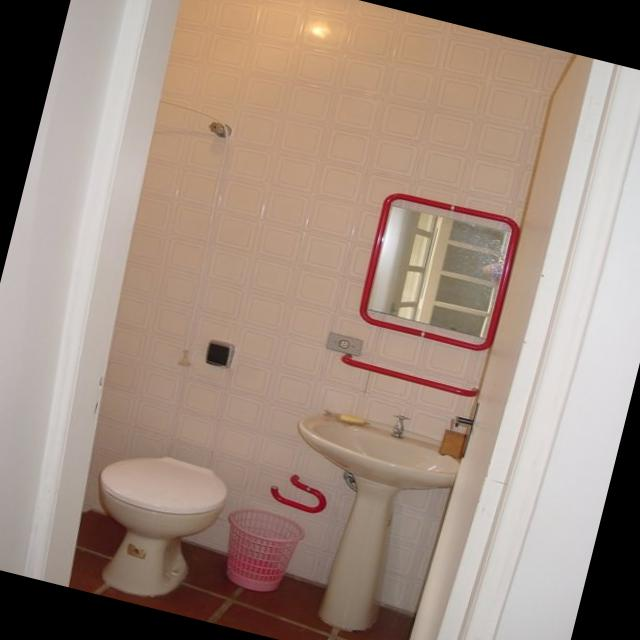bin: (219, 504, 322, 597)
faucet handle: (385, 409, 415, 441)
mirror crop: (366, 205, 511, 338)
outlet: (317, 329, 366, 367)
sink basin: (303, 410, 460, 630)
tile wall: (288, 9, 348, 52), (200, 33, 251, 74), (319, 163, 366, 203)
toilet bowl: (94, 447, 244, 603)
toilet seat cover: (262, 475, 332, 514)
wall clock: (95, 0, 587, 518)
